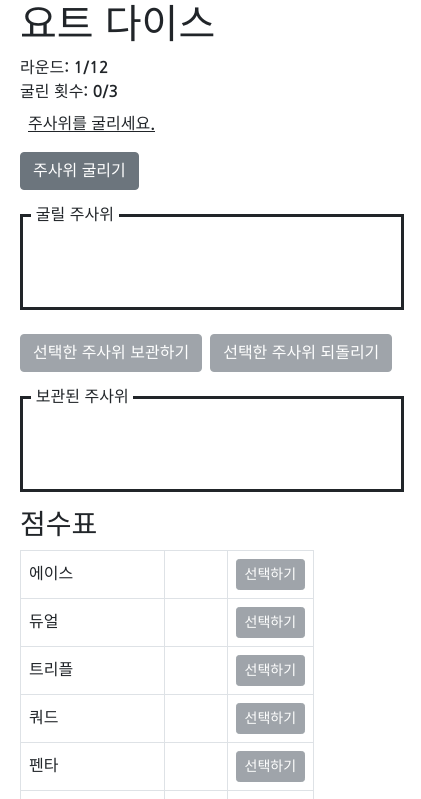
주사위 굴리기 › 제한 횟수 이내 주사위 굴리기
Click the button "주사위 굴리기" at (80, 171), box [20,152,139,190]
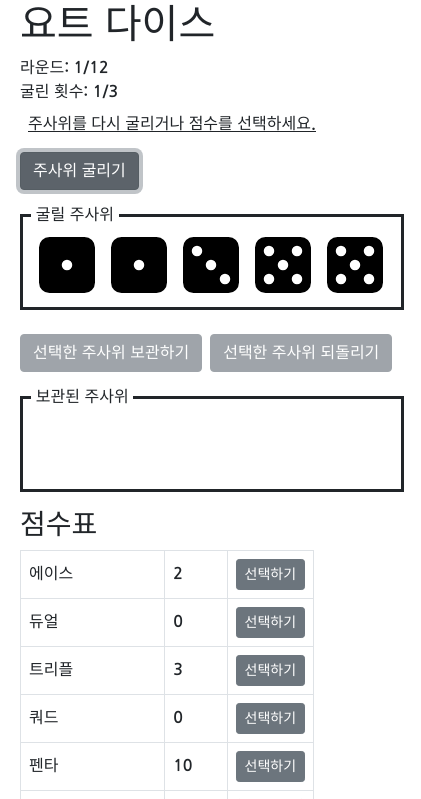
Expected: the text with test id "roll-count" reads "1", [93,84,103,99]
Expected: the text with test id "instruction" reads "주사위를 다시 굴리거나 점수를 선택하세요.", [28,116,316,131]
Click the button "주사위 굴리기" at (80, 171), box [20,152,139,190]
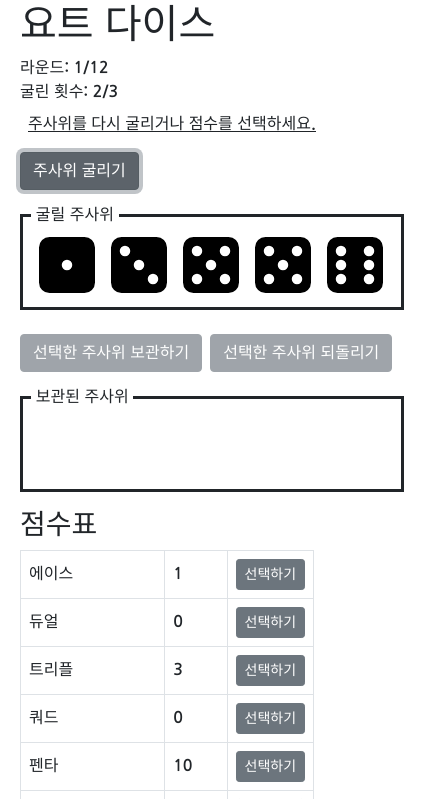
Expected: the text with test id "instruction" reads "주사위를 다시 굴리거나 점수를 선택하세요.", [28,116,316,131]
Expected: the text with test id "roll-count" reads "2", [93,84,103,99]
Click the button "주사위 굴리기" at (80, 171), box [20,152,139,190]
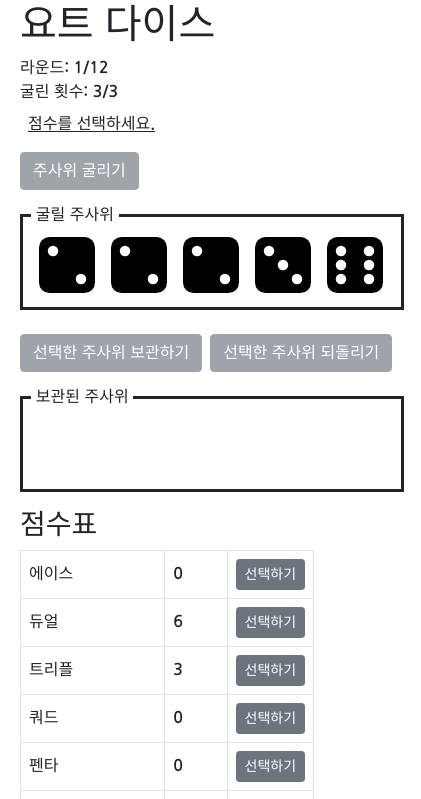
Expected: the text with test id "roll-count" reads "3", [93,84,103,99]
Expected: the text with test id "instruction" reads "점수를 선택하세요.", [28,116,155,131]
